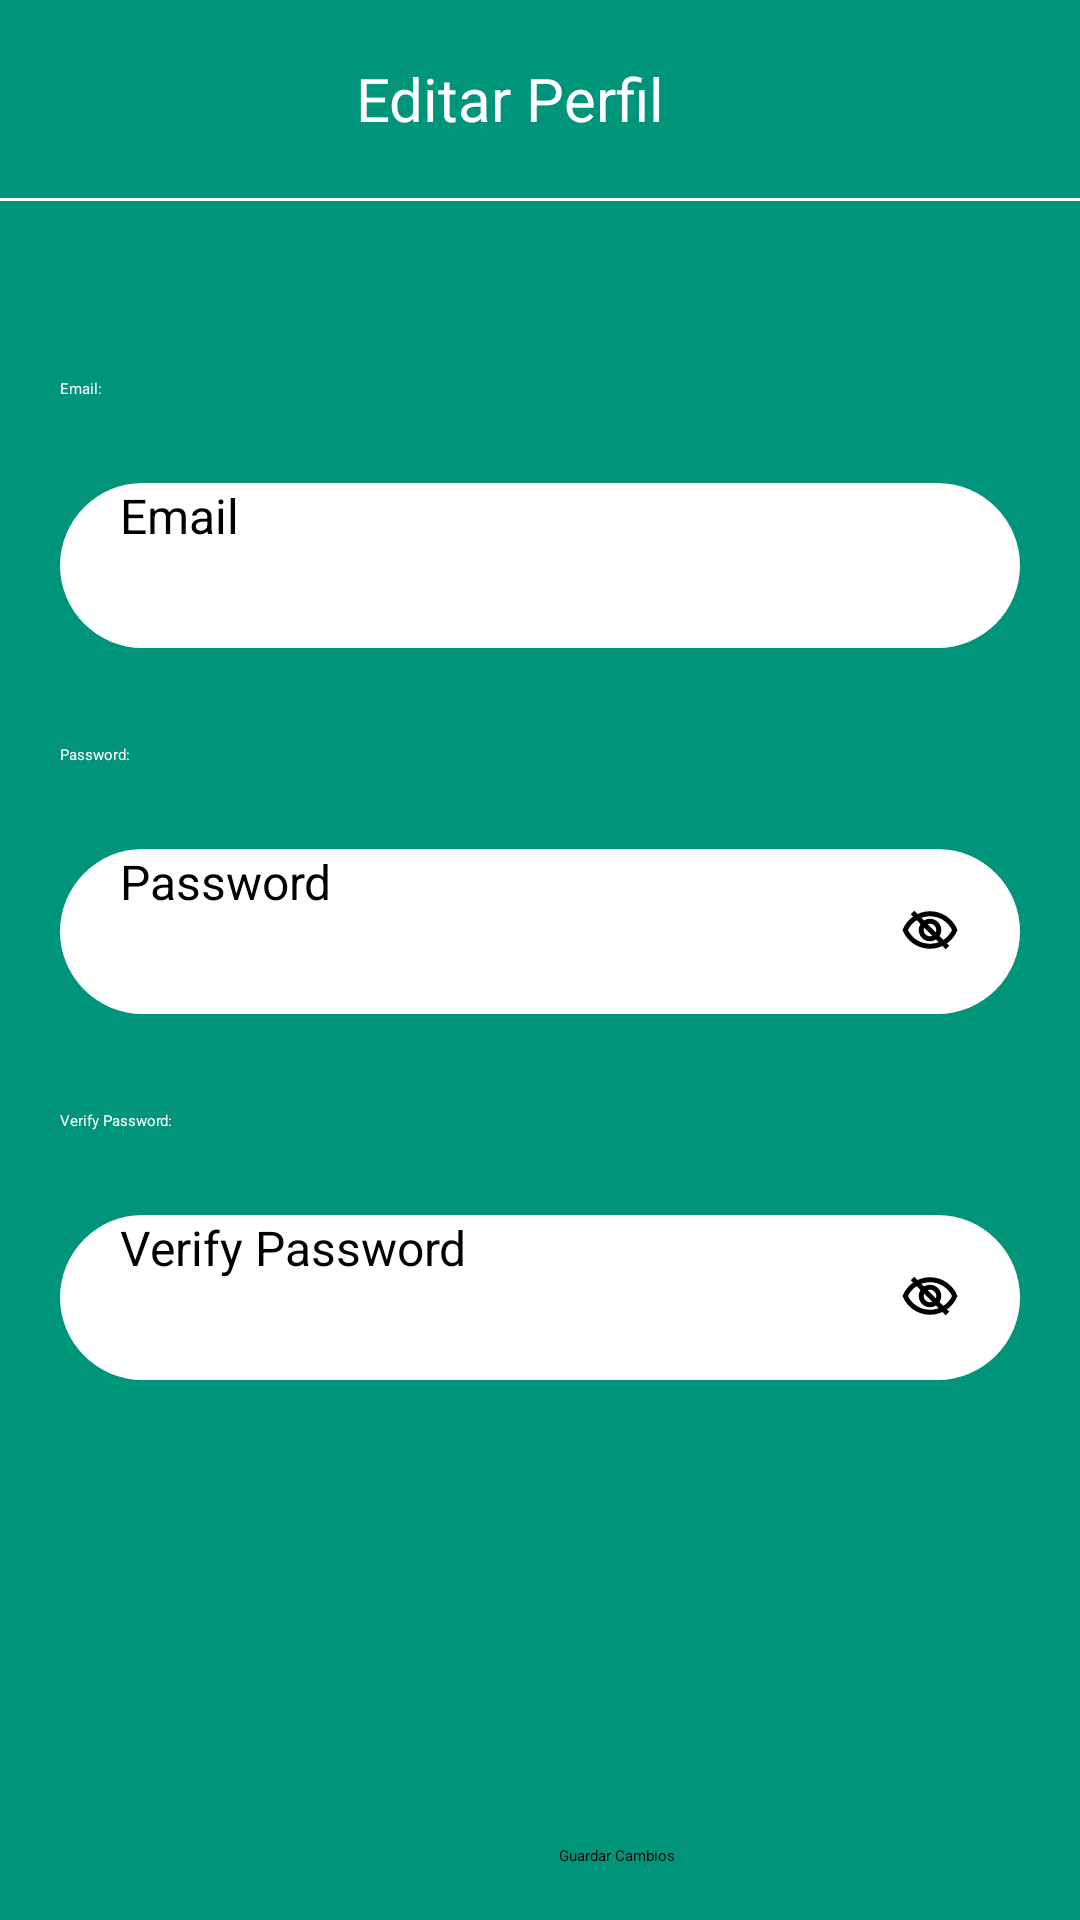

Icons on this 1080px x 1920px Android screen, each with its box as (x1, y1, x2, y2):
hide eye: (902, 911, 958, 949), (902, 1277, 958, 1315)
